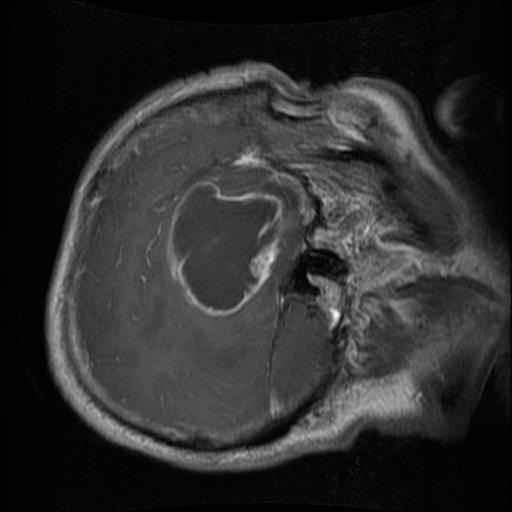glioma: (166, 182, 279, 317)
